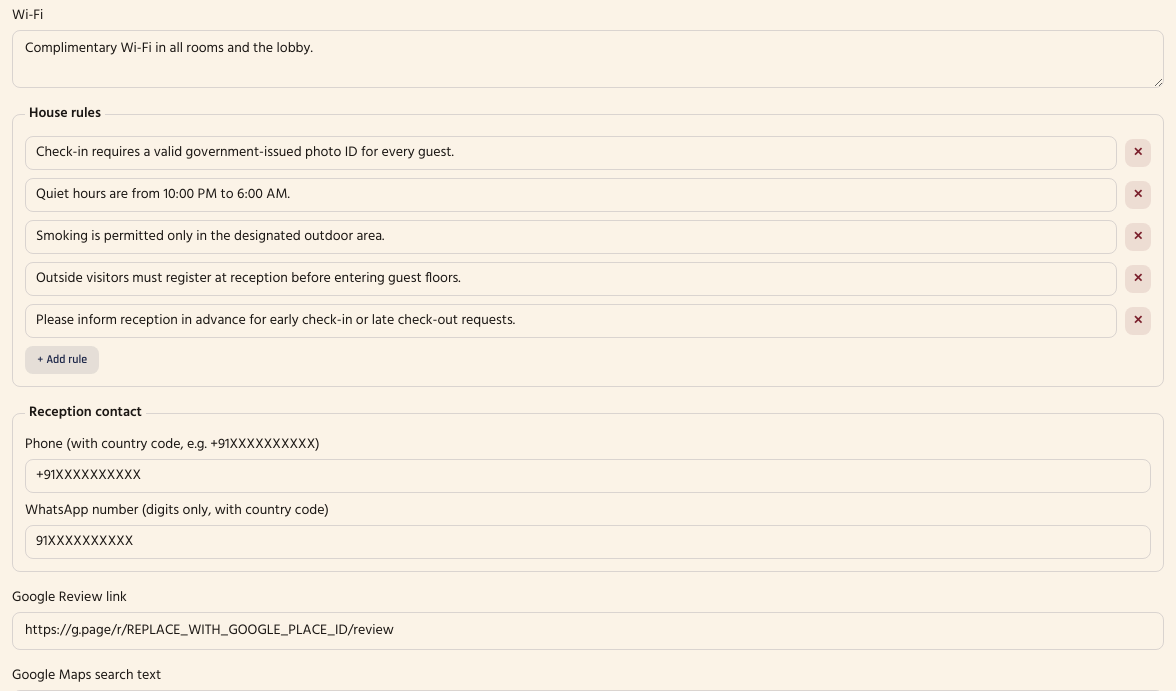
Test: GuesthouseEditor › adds and removes a house rule
This screenshot has width=1176, height=691.
(page scrolled)
Click the button "+ Add rule" at (62, 360), box [25,346,99,374]
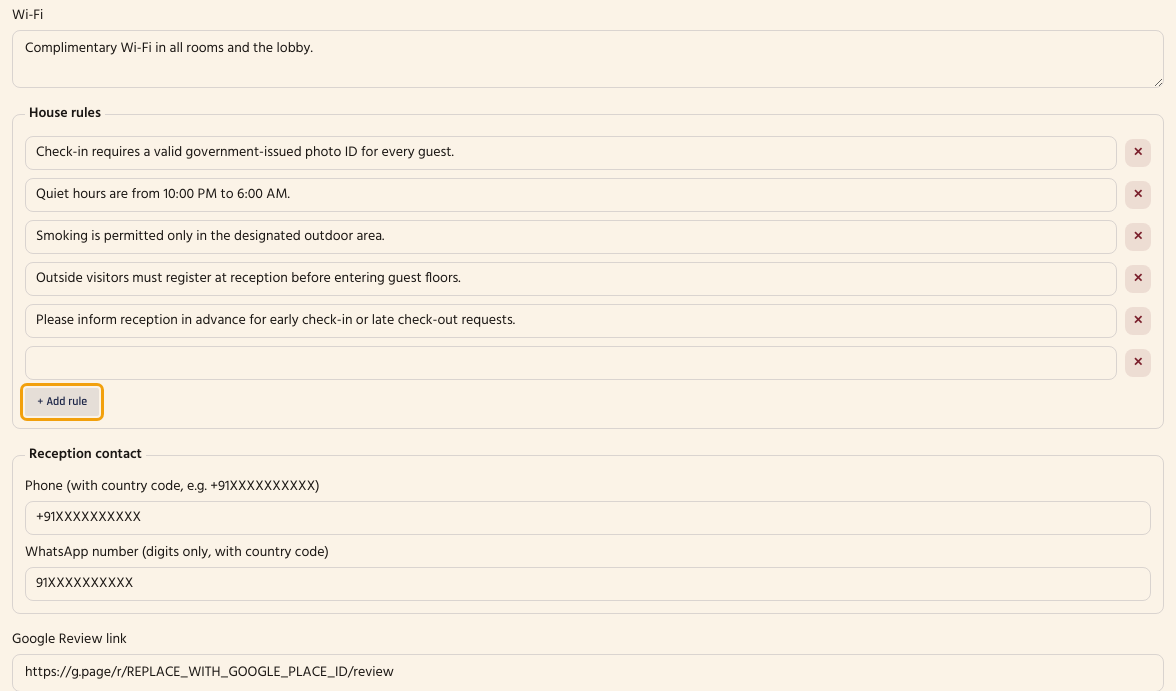
Expected: the number of buttons named "Remove rule" is 6
Click the button named "Remove rule" at (1138, 153), box [1125,139,1151,167]
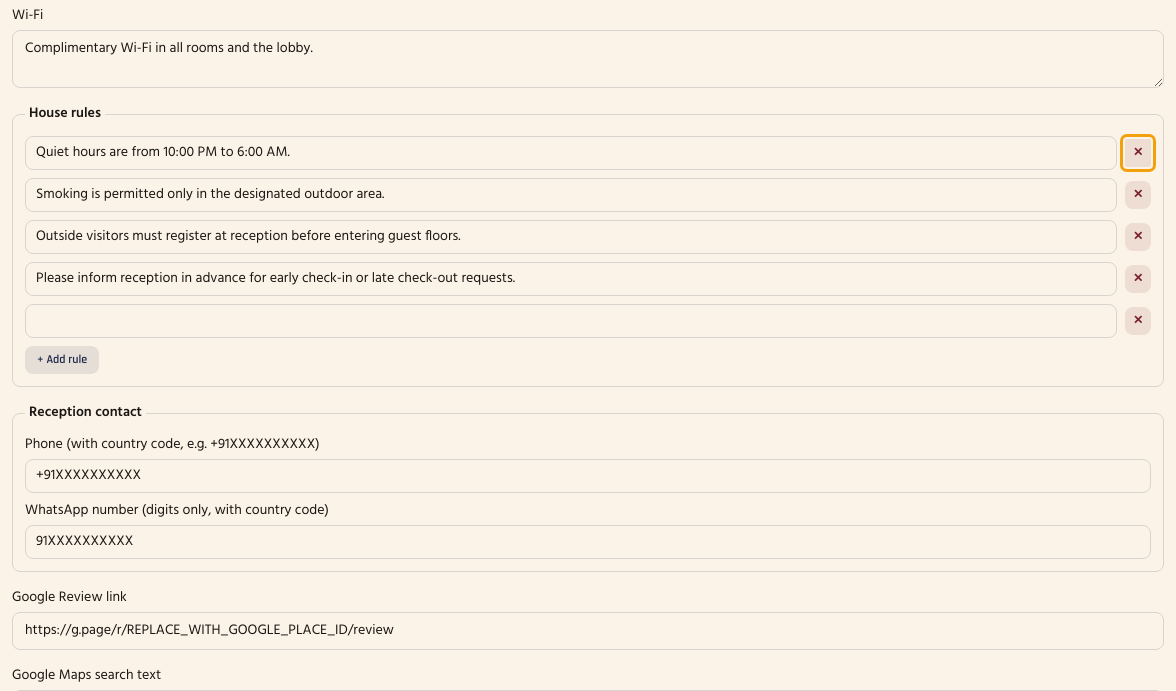
Expected: the number of buttons named "Remove rule" is 5, [1125,139,1151,167]; [1125,181,1151,209]; [1125,223,1151,251]; [1125,265,1151,293]; [1125,307,1151,335]
